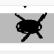not correct: (10, 13, 49, 42)
